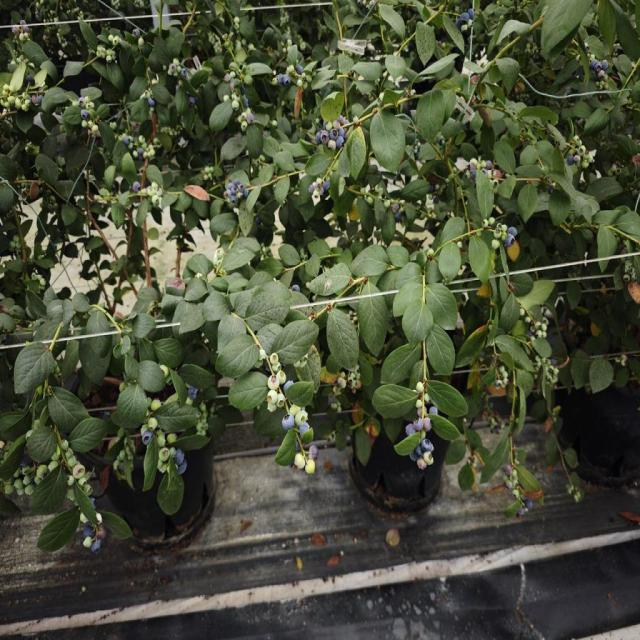RipeBlueBerry: (277, 417, 297, 432), (510, 226, 520, 242), (320, 128, 329, 144), (176, 452, 183, 467)
